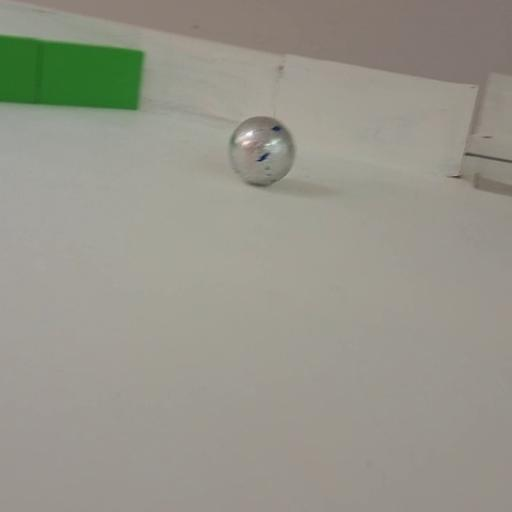alive: (227, 115, 295, 185)
